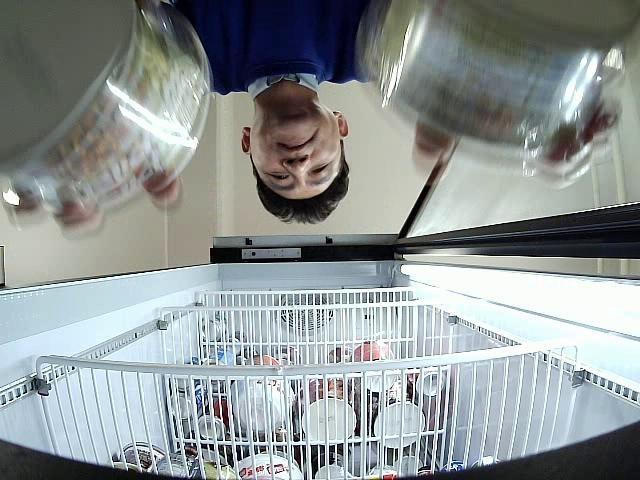03_chapagetti_L: (354, 0, 640, 158), (0, 0, 211, 214)
